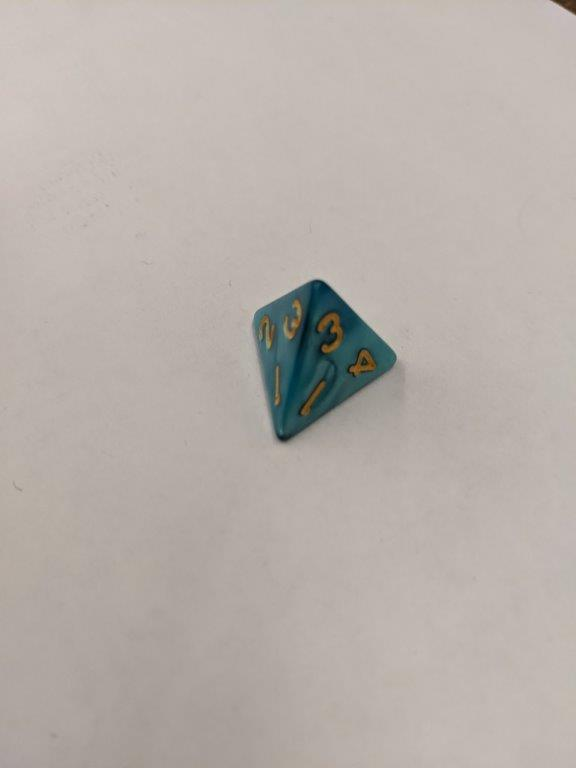d4-3: (252, 277, 399, 443)
